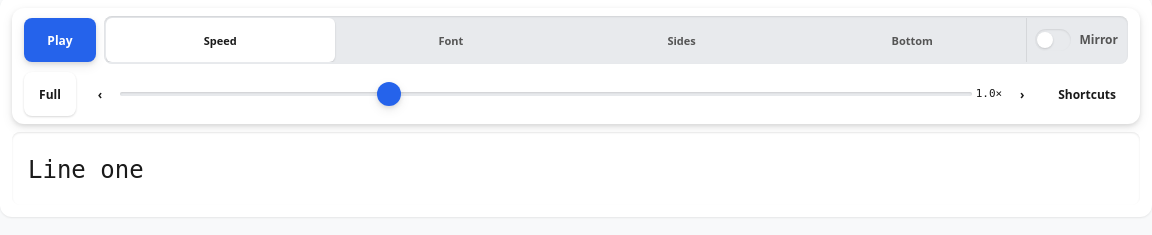
Test: Player (M4-T1) › speed slider updates displayed multiplier
This screenshot has width=1152, height=235.
Set the slider named "scroll speed" to "0.5" at (243, 94), box x1=120 y1=62 x2=972 y2=126
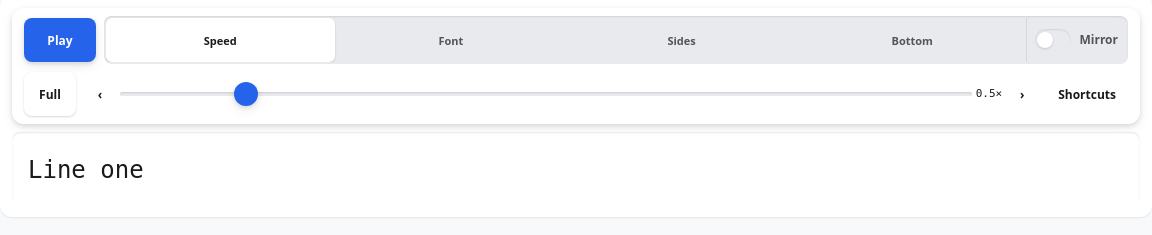
Check: the text "0.5×" is shown, box x1=976 y1=86 x2=1002 y2=102
Set the slider named "scroll speed" to "2.5" at (820, 94), box x1=120 y1=62 x2=972 y2=126
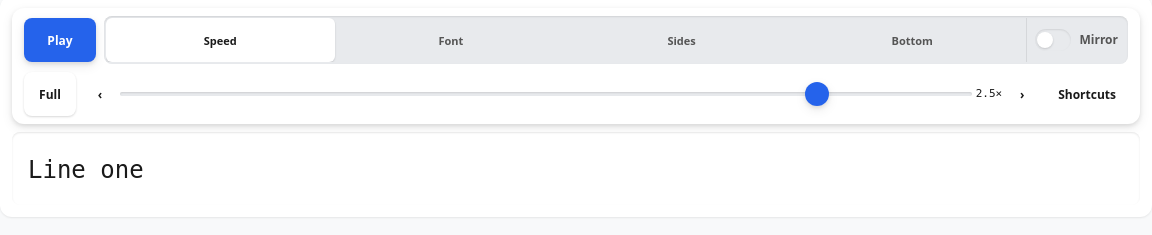
Check: the text "2.5×" is shown, box x1=976 y1=86 x2=1002 y2=102
